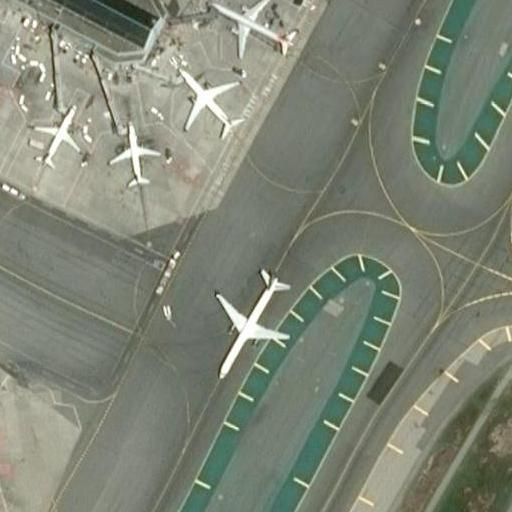Aircraft: (208, 266, 291, 375), (176, 67, 234, 139), (220, 0, 289, 51), (31, 101, 74, 174), (108, 121, 152, 182)
